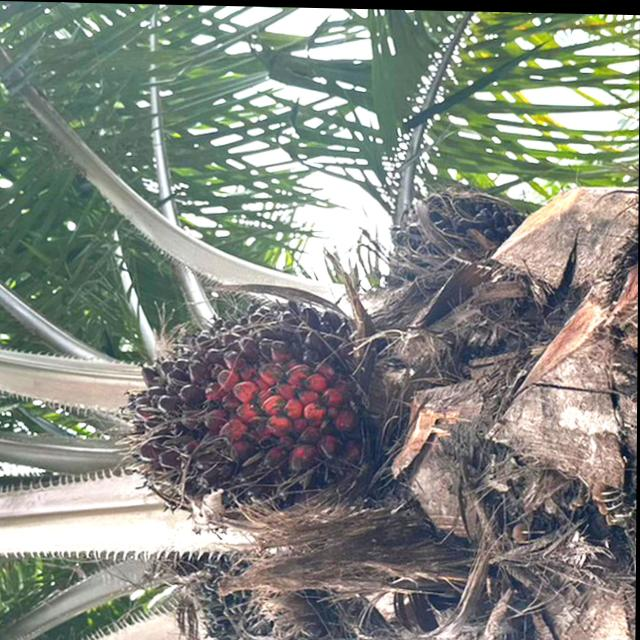ripe: (89, 276, 389, 544)
